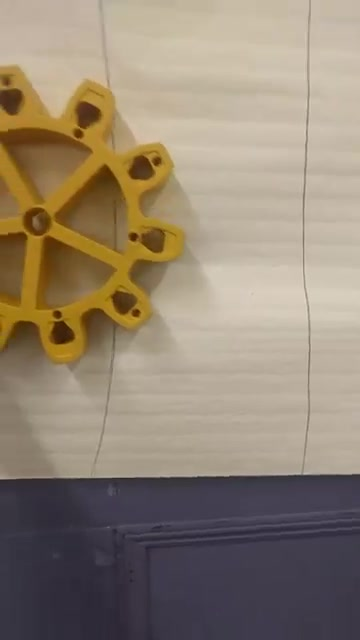gear: (1, 64, 186, 365)
